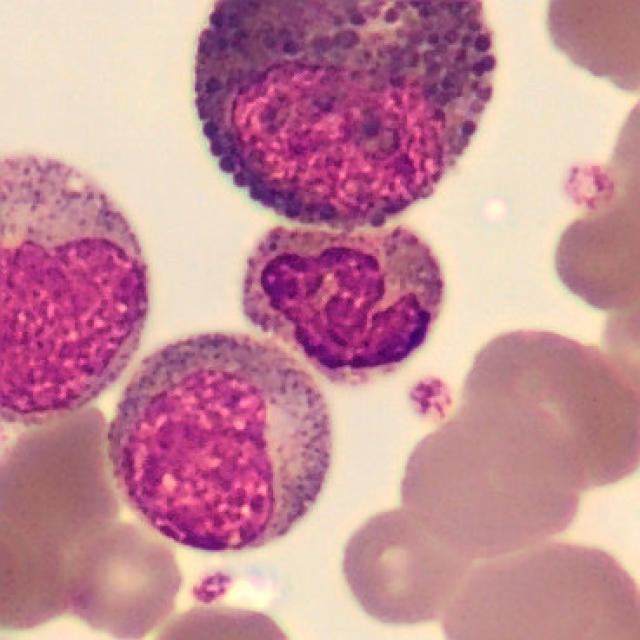Mielocito: (108, 334, 334, 554)
